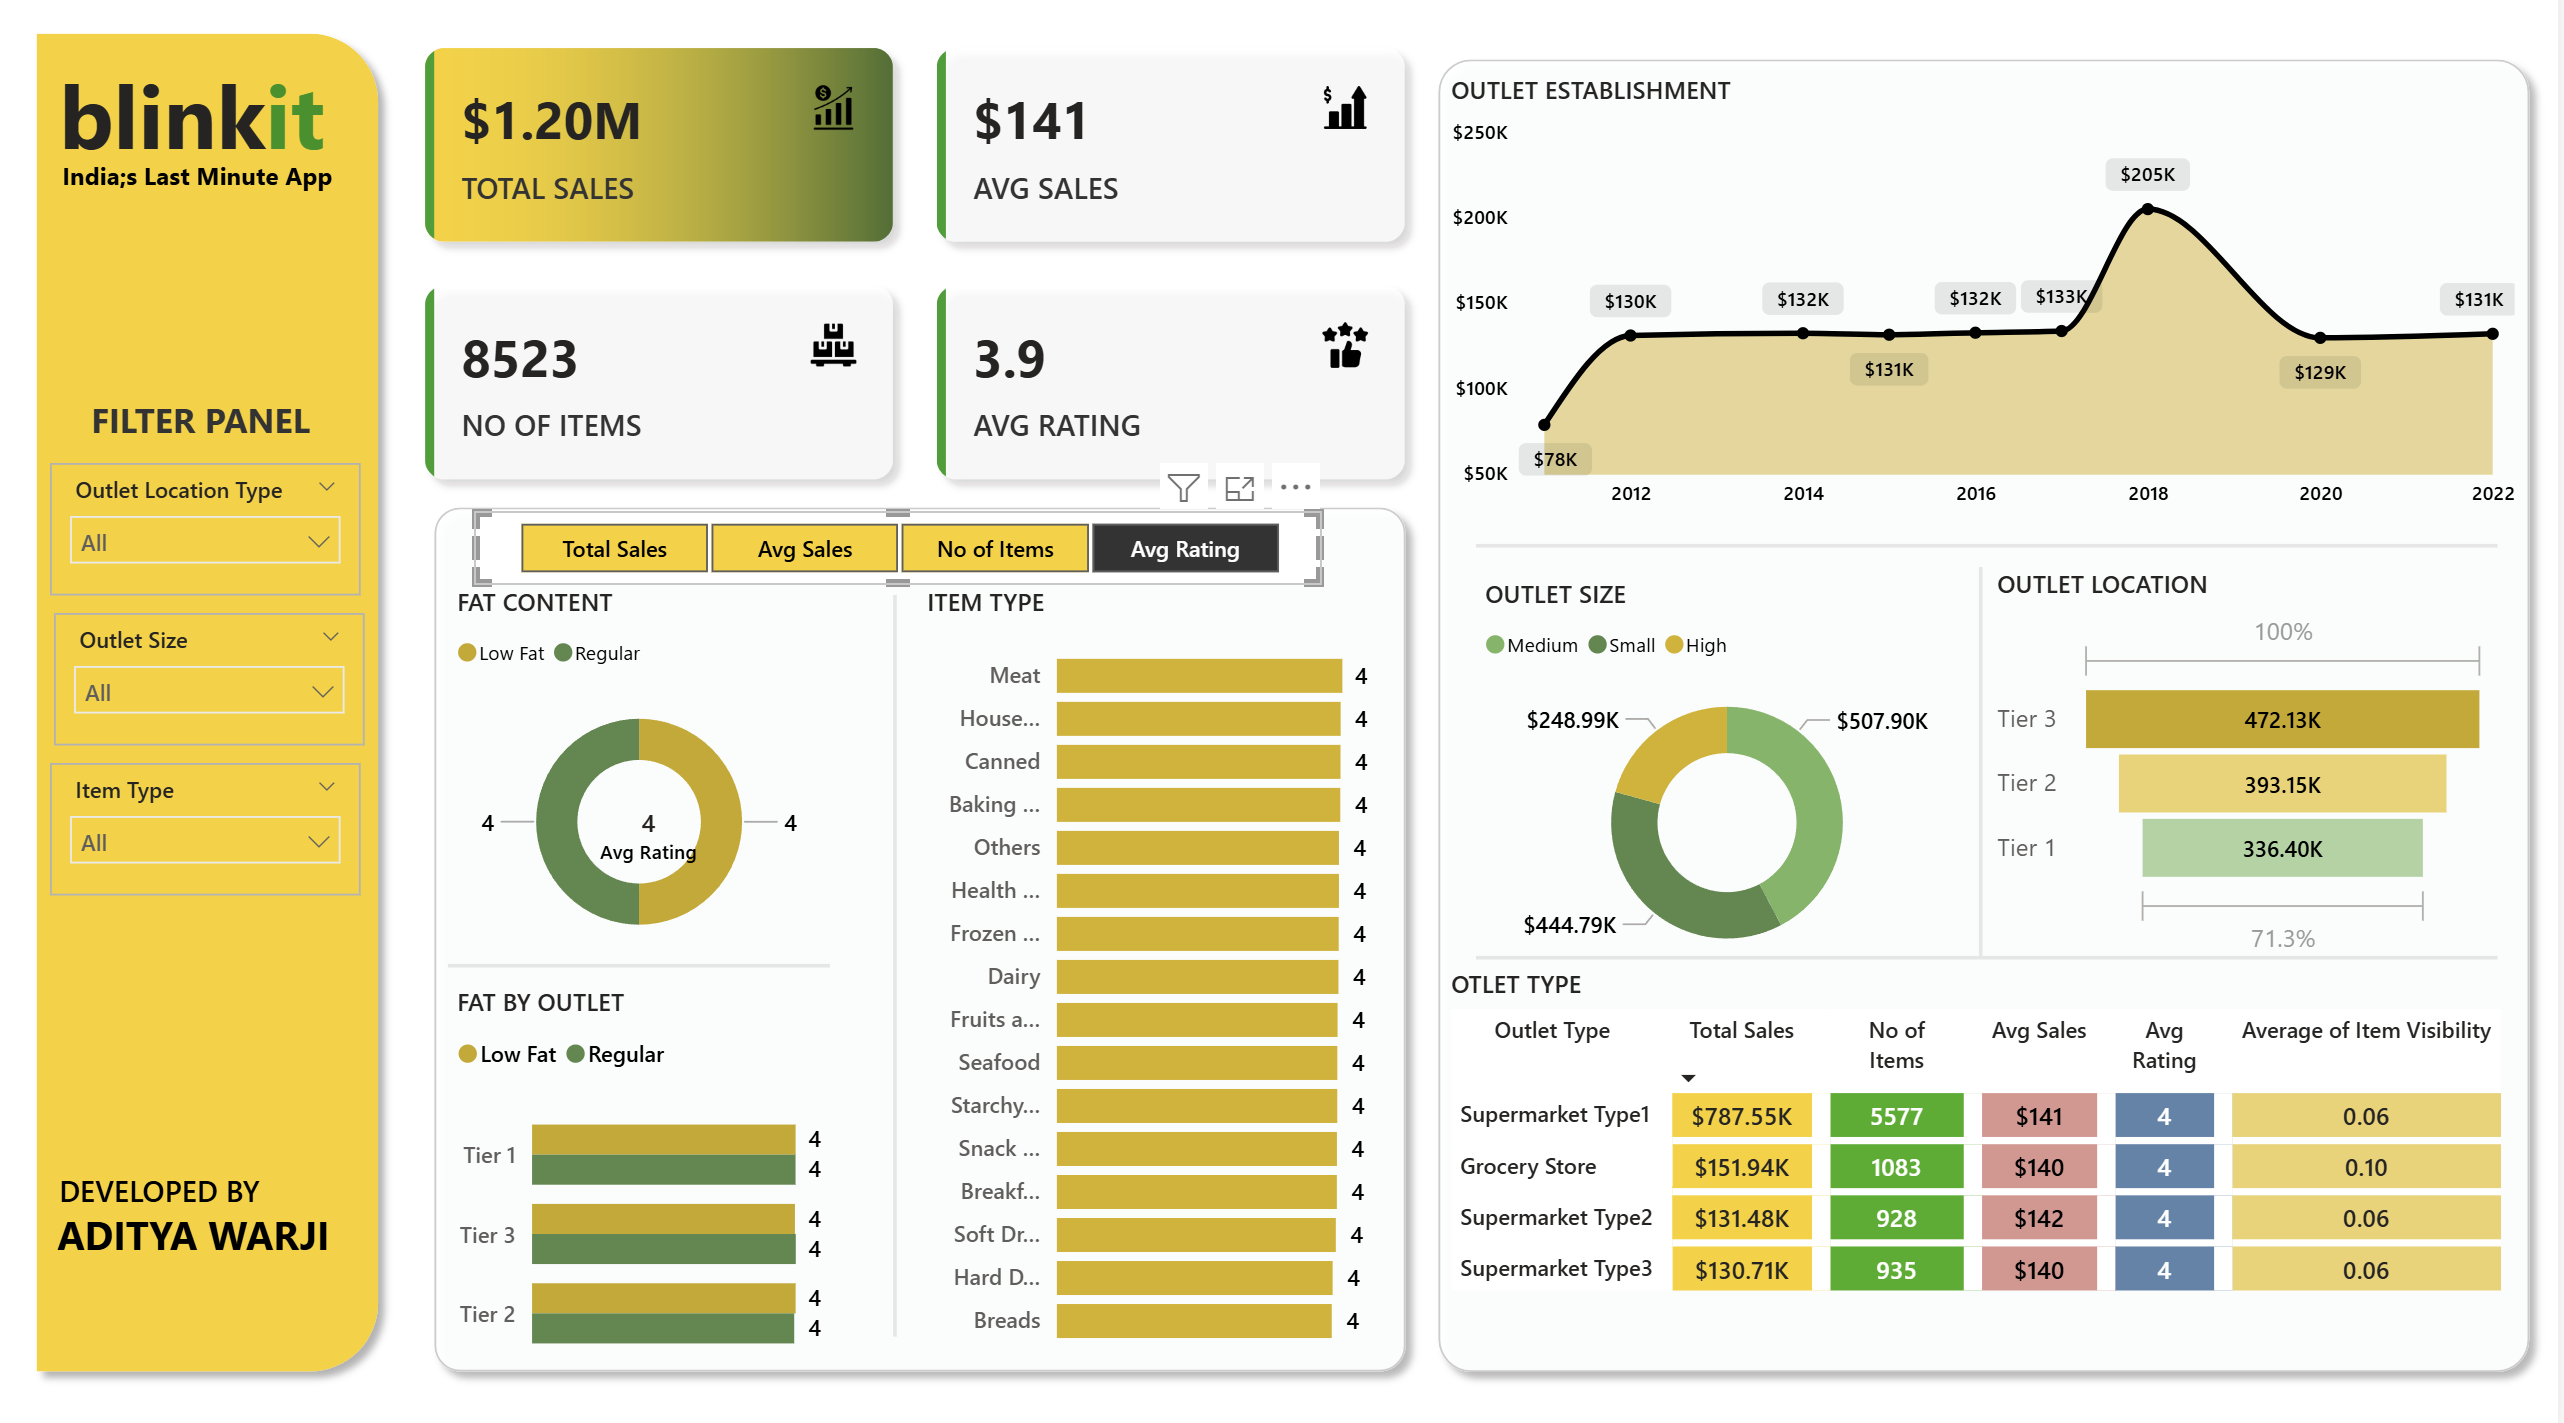

The page's visual inventory and layout, read from the dashboard file:
{"tool":"powerbi","page":{"name":"Page 1","canvas":[1400,800],"ordinal":0},"visuals":[{"type":"shape","box":[11.2,25.1,205,750.2],"z":0},{"type":"textbox","box":[27.9,40.4,172.9,87.8],"z":1000},{"type":"textbox","box":[0,97.6,216.1,87.8],"z":2000},{"type":"cardVisual","fields":{"Data":["BlinkIT Grocery Data - BlinkIT Grocery Data.Total Sales","BlinkIT Grocery Data - BlinkIT Grocery Data.Avg Sales","BlinkIT Grocery Data - BlinkIT Grocery Data.No of Items","BlinkIT Grocery Data - BlinkIT Grocery Data.Avg Rating"]},"box":[216.1,25.1,570.3,270.5],"z":3000},{"type":"shape","box":[228.7,284.5,549.4,490.8],"z":4000},{"type":"donutChart","title":"FAT CONTENT","fields":{"Y":["BlinkIT Grocery Data - BlinkIT Grocery Data.Avg Rating"],"Category":["BlinkIT Grocery Data - BlinkIT Grocery Data.Item Fat Content"]},"box":[245.4,336.1,209.2,214.7],"z":5000},{"type":"slicer","fields":{"Values":["Metrics.Metrics"]},"box":[259.4,295.6,464.3,40.4],"z":6000},{"type":"cardVisual","fields":{"Data":["BlinkIT Grocery Data - BlinkIT Grocery Data.Avg Rating"]},"box":[306.8,436.5,97.6,72.5],"z":7000},{"type":"clusteredBarChart","title":"FAT BY OUTLET","fields":{"Y":["BlinkIT Grocery Data - BlinkIT Grocery Data.Avg Rating"],"Category":["BlinkIT Grocery Data - BlinkIT Grocery Data.Outlet Location Type"],"Series":["BlinkIT Grocery Data - BlinkIT Grocery Data.Item Fat Content"]},"box":[245.4,555,209.2,220.3],"z":8000},{"type":"shape","box":[245.4,529.9,209.2,29.3],"z":9000},{"type":"shape","box":[476.9,341.6,25.1,405.8],"z":10000},{"type":"barChart","title":"ITEM TYPE","fields":{"Y":["BlinkIT Grocery Data - BlinkIT Grocery Data.Avg Rating"],"Category":["BlinkIT Grocery Data - BlinkIT Grocery Data.Item Type"]},"box":[502,336.1,251,426.7],"z":11000},{"type":"shape","box":[778.1,39,614.9,736.3],"z":12000},{"type":"lineChart","title":"OUTLET ESTABLISHMENT","fields":{"Y":["BlinkIT Grocery Data - BlinkIT Grocery Data.Total Sales"],"Category":["BlinkIT Grocery Data - BlinkIT Grocery Data.Outlet Establishment Year"]},"box":[789.2,55.8,591.9,246.8],"z":13000},{"type":"donutChart","title":"OUTLET SIZE","fields":{"Y":["BlinkIT Grocery Data - BlinkIT Grocery Data.Total Sales"],"Category":["BlinkIT Grocery Data - BlinkIT Grocery Data.Outlet Size"]},"box":[807.4,331.9,274.7,224.5],"z":14000},{"type":"shape","box":[807.4,299.8,559.2,29.3],"z":15000},{"type":"shape","box":[1069.5,326.3,29.3,214.7],"z":16000},{"type":"funnel","title":"OUTLET LOCATION","fields":{"Y":["Sum(BlinkIT Grocery Data - BlinkIT Grocery Data.Sales)"],"Category":["BlinkIT Grocery Data - BlinkIT Grocery Data.Outlet Location Type"]},"box":[1087.6,326.3,278.9,218.9],"z":17000},{"type":"shape","box":[807.4,525.7,559.2,29.3],"z":18000},{"type":"pivotTable","title":"OTLET TYPE","fields":{"Rows":["BlinkIT Grocery Data - BlinkIT Grocery Data.Outlet Type"],"Values":["BlinkIT Grocery Data - BlinkIT Grocery Data.Total Sales","BlinkIT Grocery Data - BlinkIT Grocery Data.No of Items","BlinkIT Grocery Data - BlinkIT Grocery Data.Avg Sales","BlinkIT Grocery Data - BlinkIT Grocery Data.Avg Rating","Avg(BlinkIT Grocery Data - BlinkIT Grocery Data.Item Visibility)"]},"box":[789.2,545.2,591.2,217.5],"z":19000},{"type":"slicer","fields":{"Values":["BlinkIT Grocery Data - BlinkIT Grocery Data.Outlet Location Type"]},"box":[27.9,269.1,170.1,72.5],"z":20000},{"type":"slicer","fields":{"Values":["BlinkIT Grocery Data - BlinkIT Grocery Data.Outlet Size"]},"box":[29.3,351.4,170.1,72.5],"z":21000},{"type":"slicer","fields":{"Values":["BlinkIT Grocery Data - BlinkIT Grocery Data.Item Type"]},"box":[27.9,433.7,170.1,72.5],"z":22000},{"type":"textbox","box":[44.6,227.3,159,41.8],"z":23000},{"type":"textbox","box":[27.9,651.2,159,41.8],"z":24000},{"type":"textbox","box":[26.5,672.1,168.7,41.8],"z":25000}]}

Visuals, with their boxes in screenshot pixels (x1, y1, x2, y2), scaled from the page's 1400x800 canvas onto the 2564x1423 screenshot:
shape: <box>21,45,396,1379</box>
textbox: <box>51,72,368,228</box>
textbox: <box>0,174,396,330</box>
cardVisual - BlinkIT Grocery Data - BlinkIT Grocery Data.Total Sales x BlinkIT Grocery Data - BlinkIT Grocery Data.Avg Sales: <box>396,45,1440,526</box>
shape: <box>419,506,1425,1379</box>
"FAT CONTENT" donutChart: <box>449,598,833,980</box>
slicer - Metrics.Metrics: <box>475,526,1325,598</box>
cardVisual - BlinkIT Grocery Data - BlinkIT Grocery Data.Avg Rating: <box>562,776,741,905</box>
"FAT BY OUTLET" clusteredBarChart: <box>449,987,833,1379</box>
shape: <box>449,943,833,995</box>
shape: <box>873,608,919,1329</box>
"ITEM TYPE" barChart: <box>919,598,1379,1357</box>
shape: <box>1425,69,2551,1379</box>
"OUTLET ESTABLISHMENT" lineChart: <box>1445,99,2529,538</box>
"OUTLET SIZE" donutChart: <box>1479,590,1982,990</box>
shape: <box>1479,533,2503,585</box>
shape: <box>1959,580,2012,962</box>
"OUTLET LOCATION" funnel: <box>1992,580,2503,970</box>
shape: <box>1479,935,2503,987</box>
"OTLET TYPE" pivotTable: <box>1445,970,2528,1357</box>
slicer - BlinkIT Grocery Data - BlinkIT Grocery Data.Outlet Location Type: <box>51,479,363,608</box>
slicer - BlinkIT Grocery Data - BlinkIT Grocery Data.Outlet Size: <box>54,625,365,754</box>
slicer - BlinkIT Grocery Data - BlinkIT Grocery Data.Item Type: <box>51,771,363,900</box>
textbox: <box>82,404,373,479</box>
textbox: <box>51,1158,342,1233</box>
textbox: <box>49,1195,357,1270</box>
